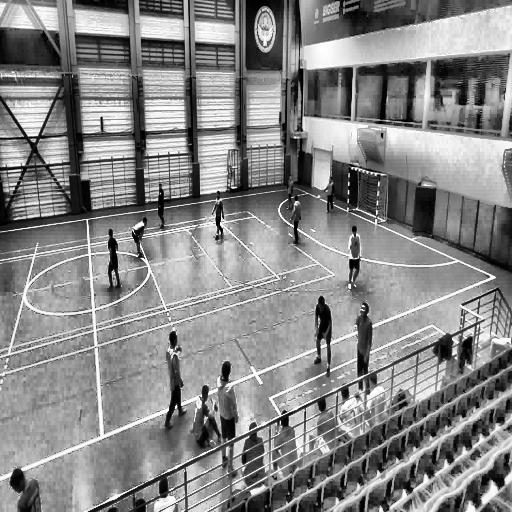player: (216, 359, 238, 474), (164, 329, 187, 430), (356, 302, 373, 385), (314, 294, 331, 371), (107, 229, 122, 291), (347, 224, 361, 289), (212, 190, 225, 241), (132, 217, 147, 258), (289, 194, 301, 245), (156, 185, 166, 229), (286, 172, 295, 212), (325, 178, 334, 214)
